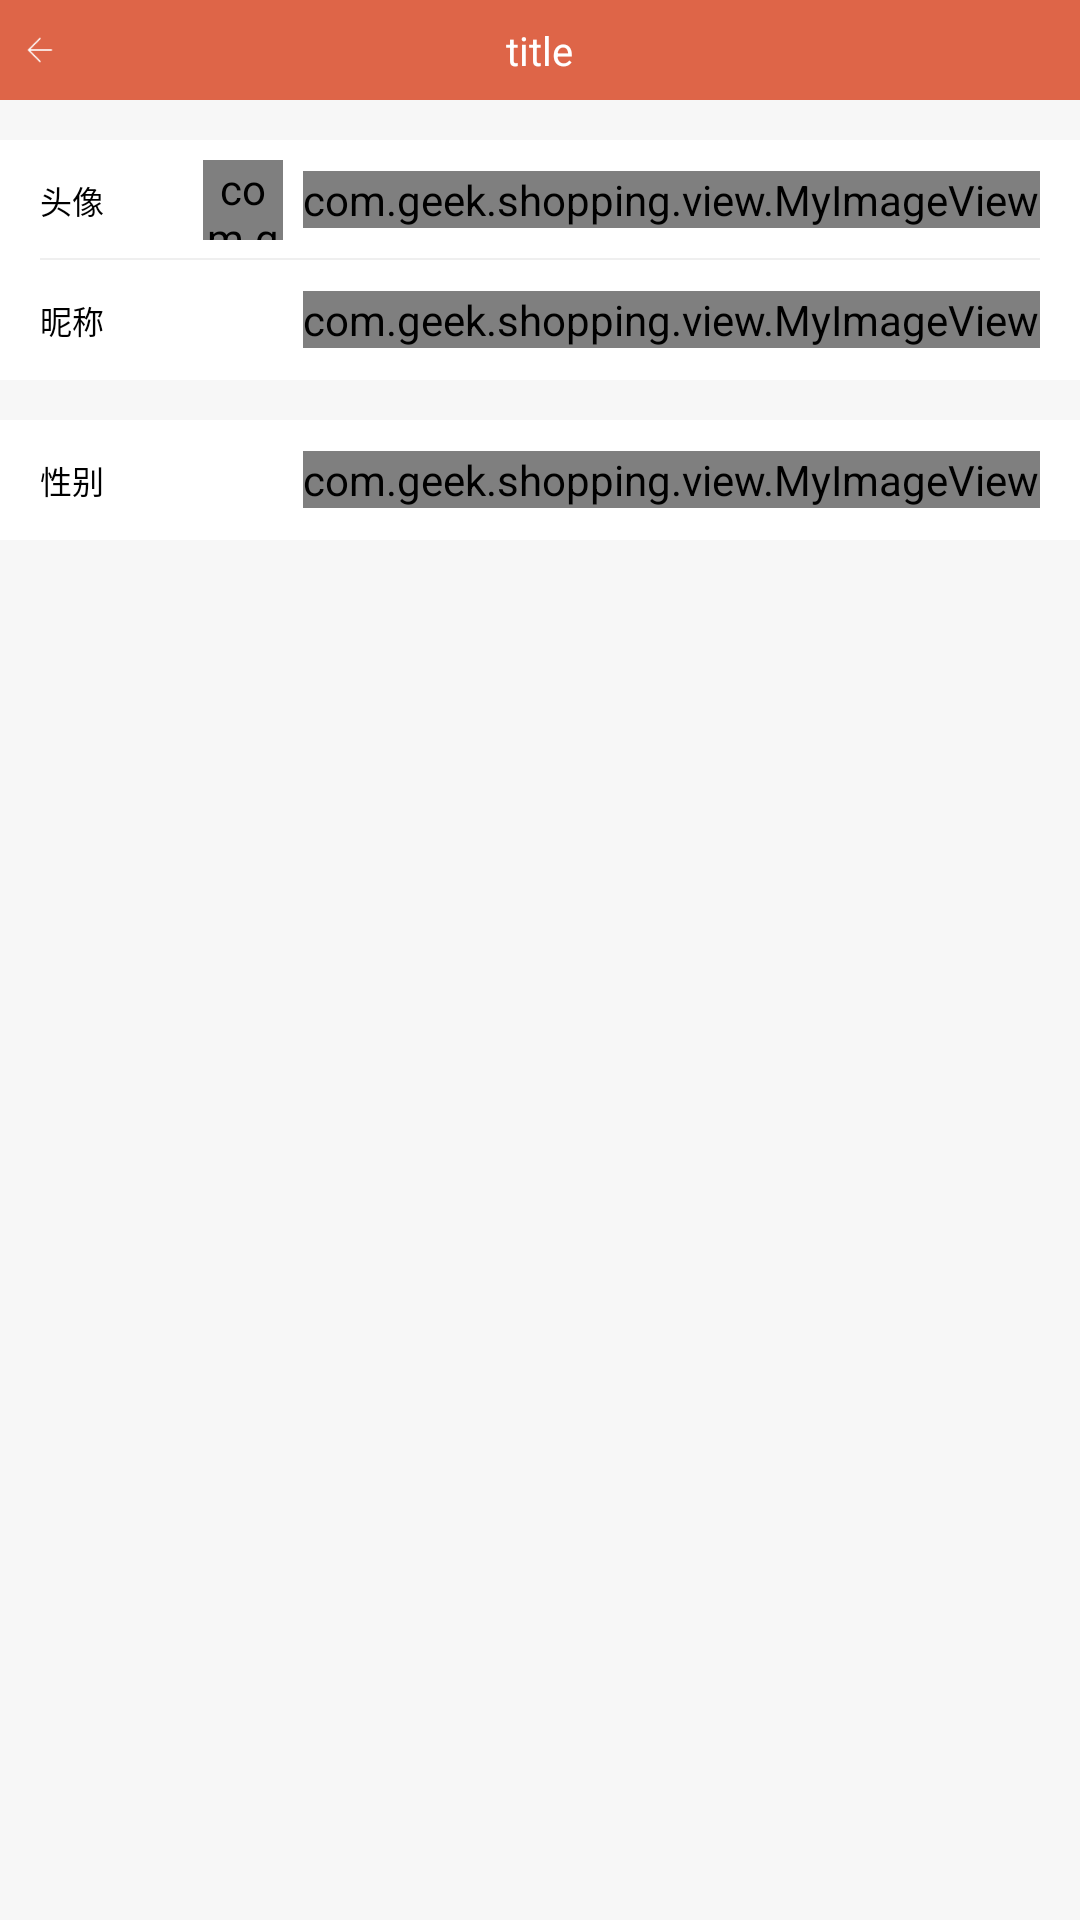

Icons on this 1080w x 1920h Android screen, each with its box as (x1, y1, x2, y2):
back: (27, 37, 52, 63)
